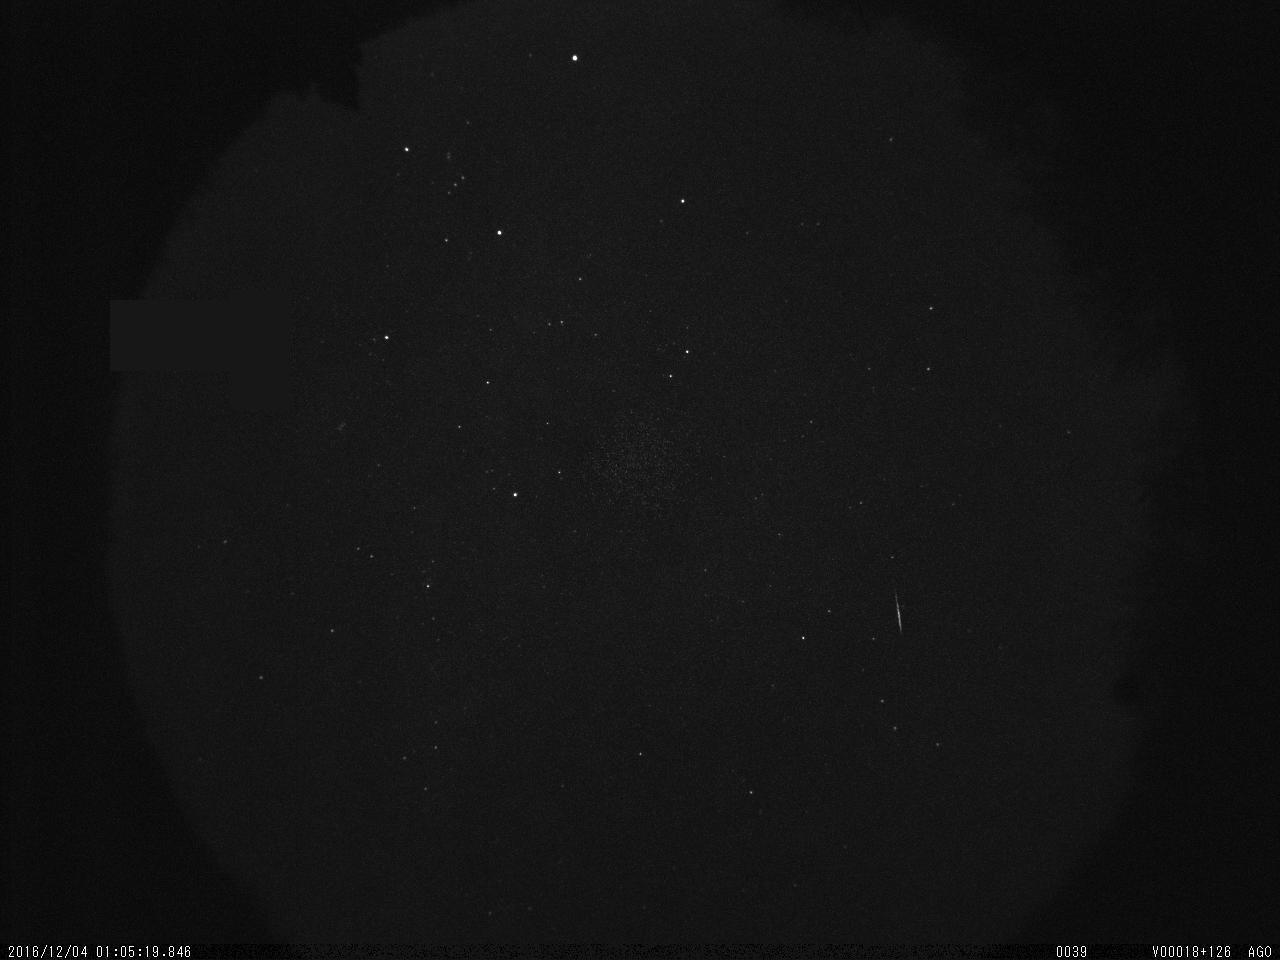Meteor: (891, 589, 907, 637)
